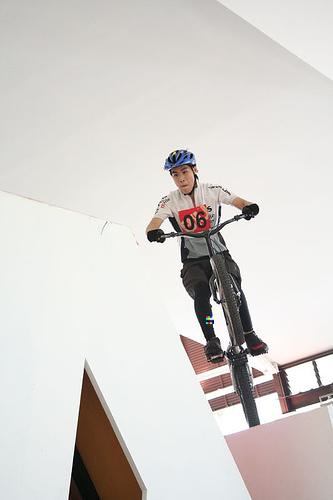car: (158, 210, 263, 430)
person: (148, 151, 270, 365)
